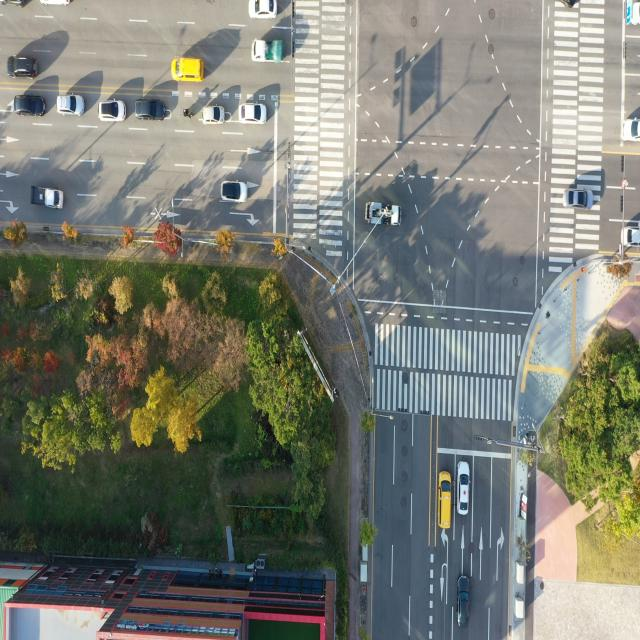car: (434, 469, 452, 533), (456, 574, 472, 629), (173, 57, 205, 83), (6, 55, 37, 81), (15, 94, 45, 120), (458, 463, 472, 517), (238, 100, 267, 126), (134, 99, 166, 122), (245, 0, 280, 21), (222, 178, 248, 202), (562, 186, 590, 206), (620, 114, 640, 142), (59, 95, 84, 117), (101, 100, 126, 122), (620, 224, 640, 250), (202, 103, 227, 123)
small_truck: (366, 202, 401, 226), (29, 187, 62, 212), (252, 38, 283, 62)
